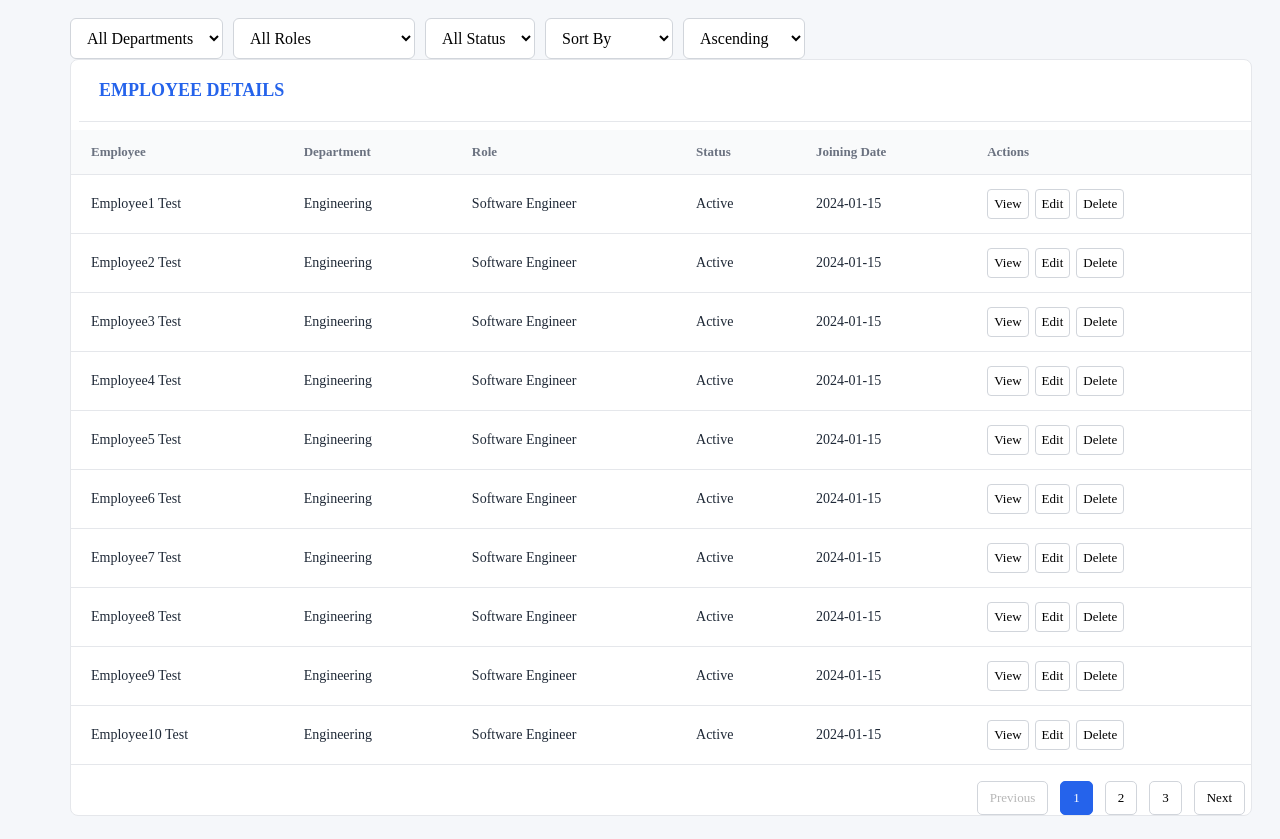
Test case: Pagination › should return to page 1 when a filter is applied
(page scrolled)
Check: the text "Employee1 Test" is shown, box [71,174,284,234]
Click the button "Next": x=1219, y=798 [1194,781,1245,815]
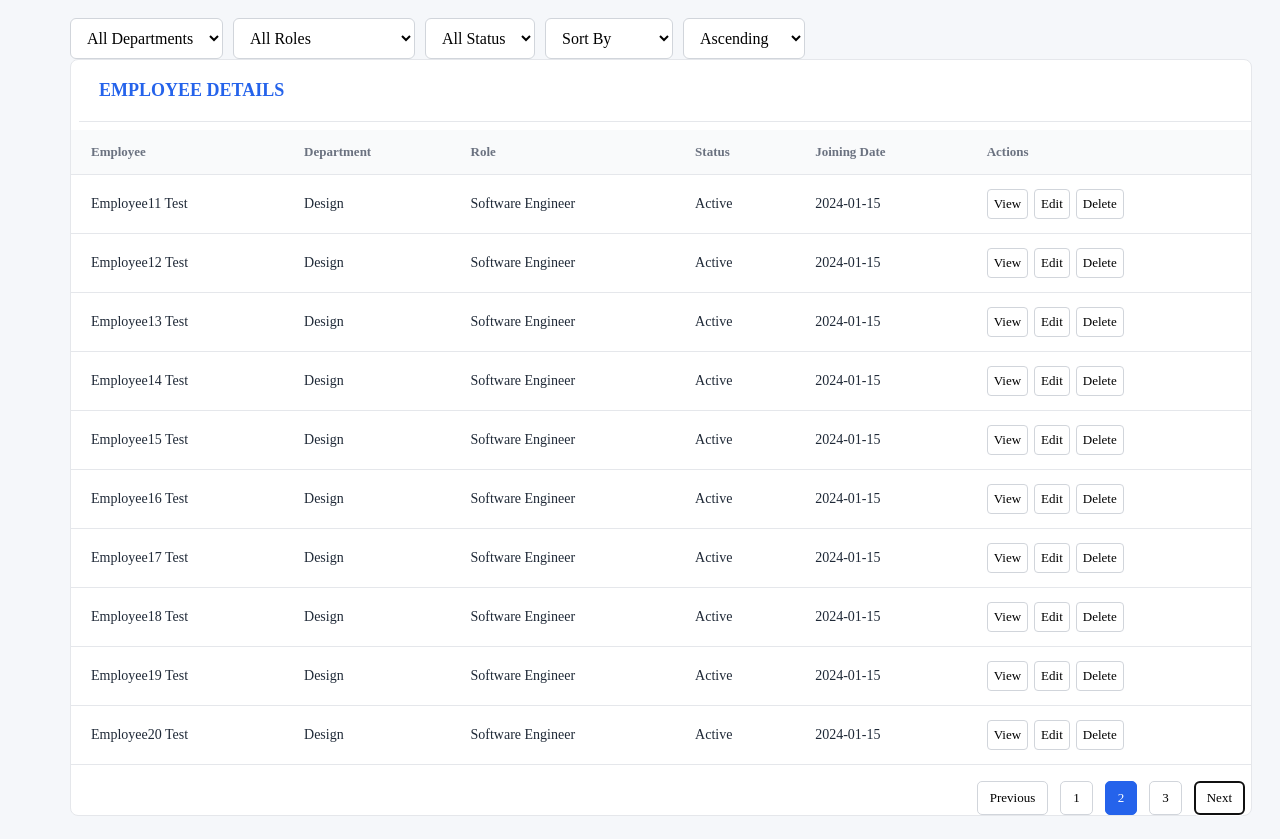
Click the button "Next": x=1219, y=798 [1194,781,1245,815]
(page scrolled)
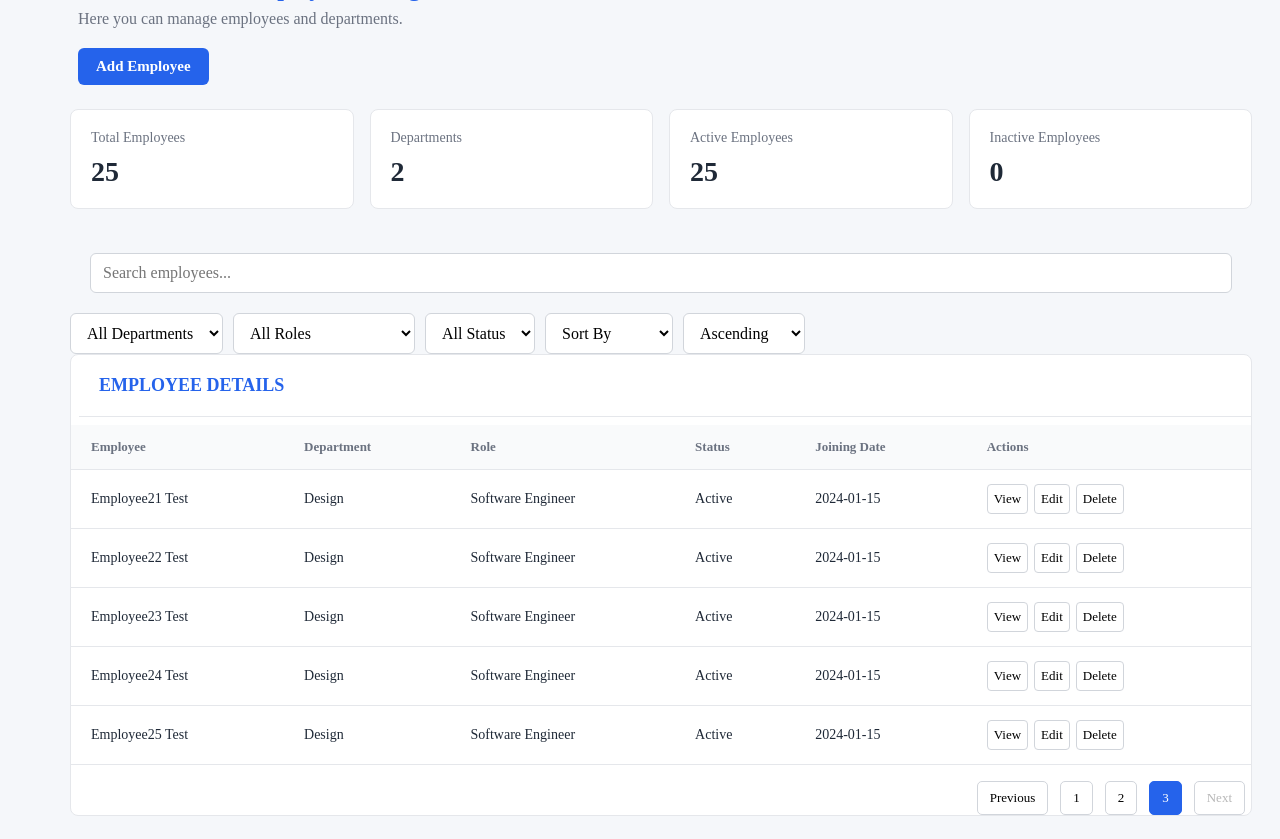
Check: the text "Employee21 Test" is shown, box [71,470,284,528]
Select "Engineering" in the 1st dropdown: x=146, y=334 [70,313,223,354]
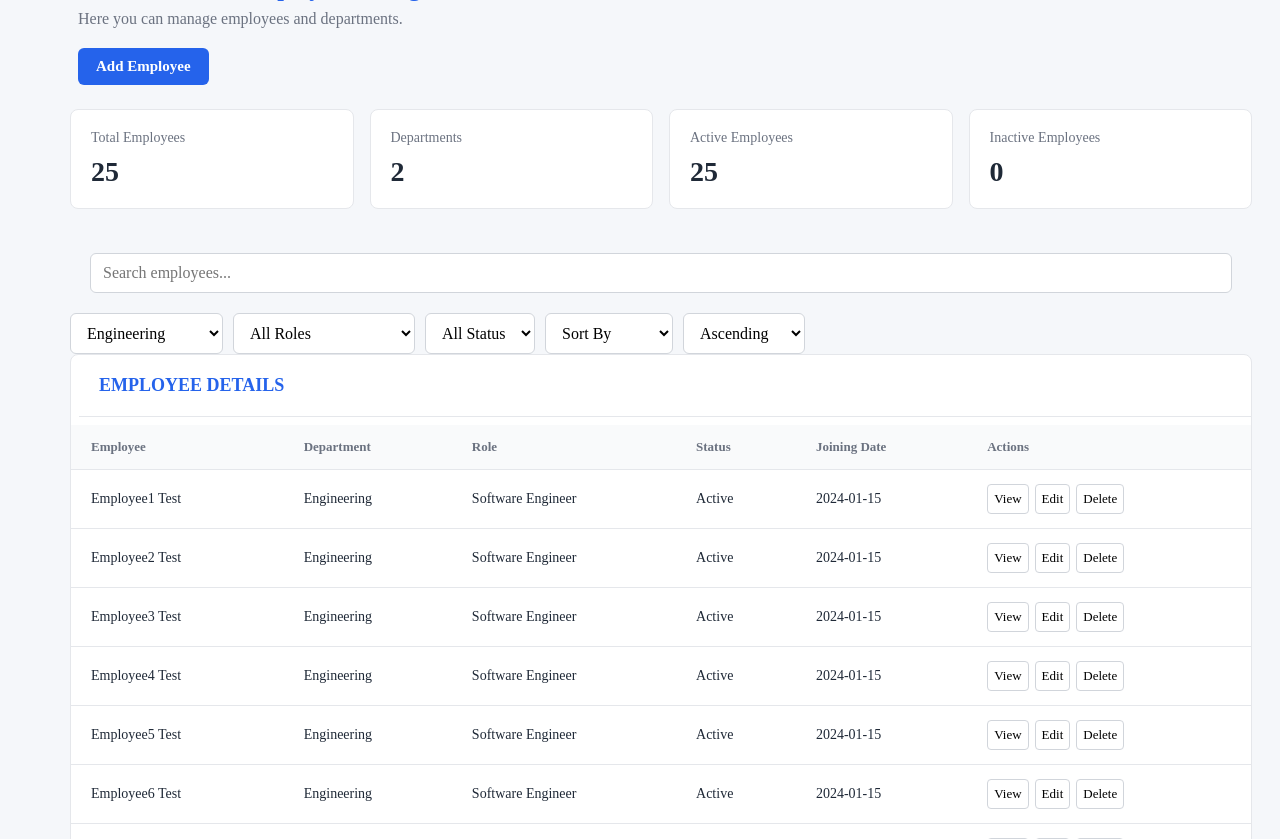
Check: the text "Employee1 Test" is shown, box [71,470,284,528]
Check: the text "Employee21 Test" is gone
